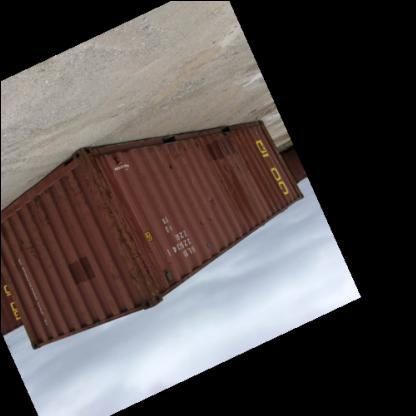Damage: (112, 206, 150, 304), (86, 155, 114, 215), (213, 160, 243, 193), (195, 210, 217, 235), (176, 141, 207, 156), (110, 146, 128, 170), (162, 158, 174, 176)
